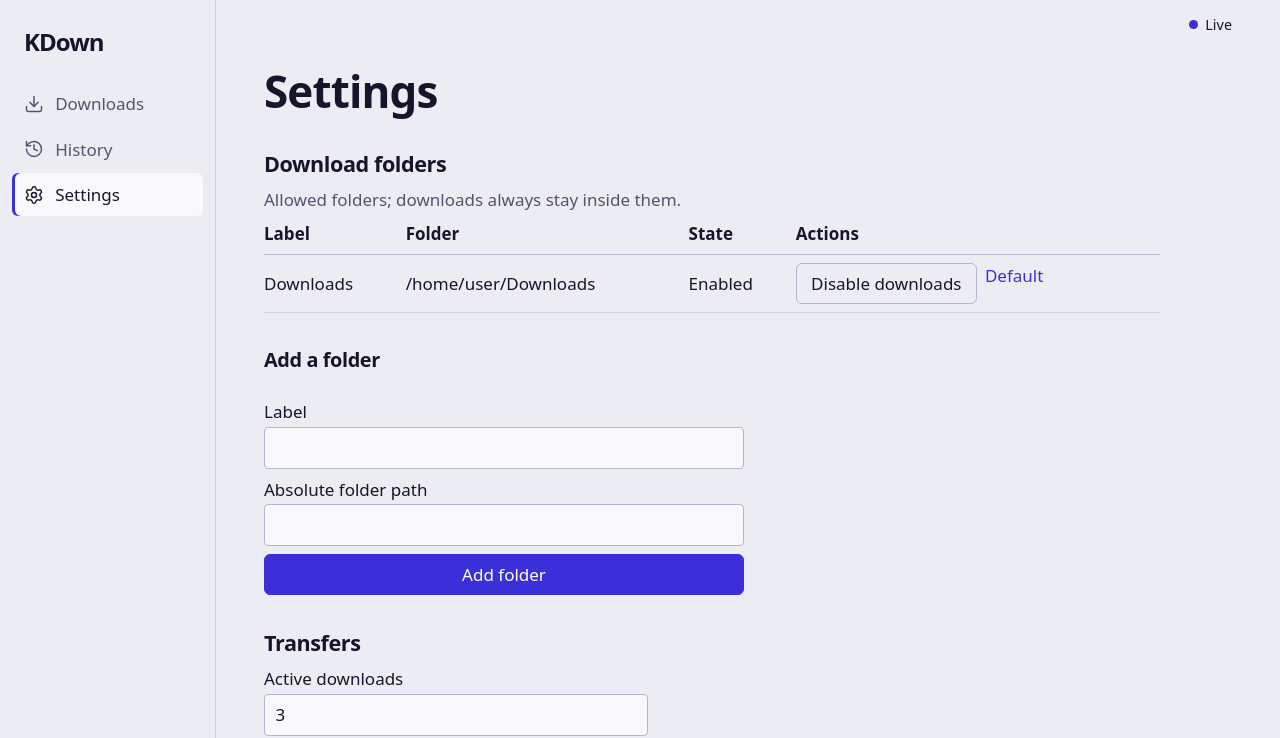
Test case: SettingsPage › shows root-in-use conflict without removing the root
Step 1. Click the button "Disable downloads" → (886, 283), box [796, 263, 977, 304]
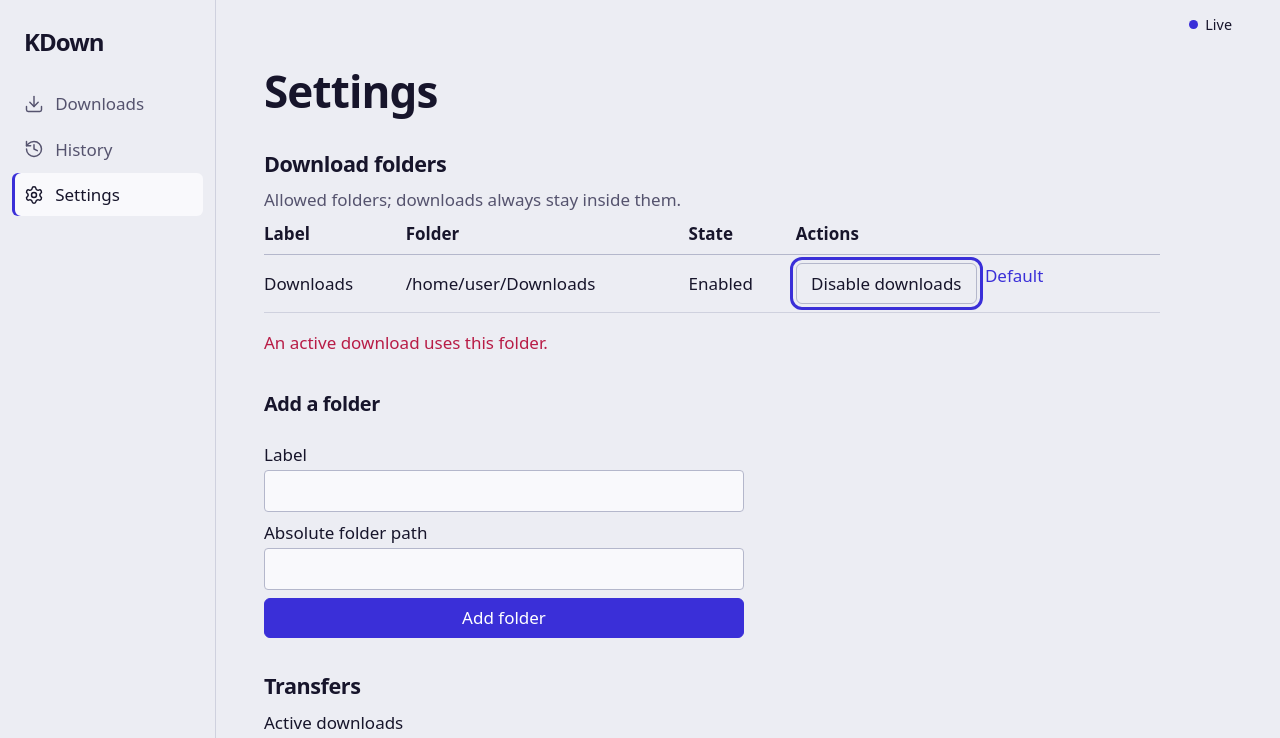
Expected: the text "/home/user/Downloads" is shown, [406, 255, 689, 313]
Expected: the text "An active download uses this folder." is shown, [264, 331, 548, 354]
